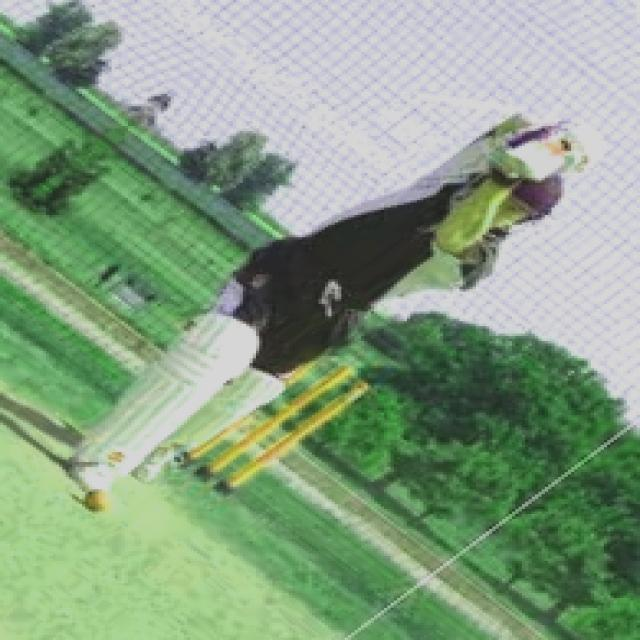bat: (492, 125, 565, 203)
